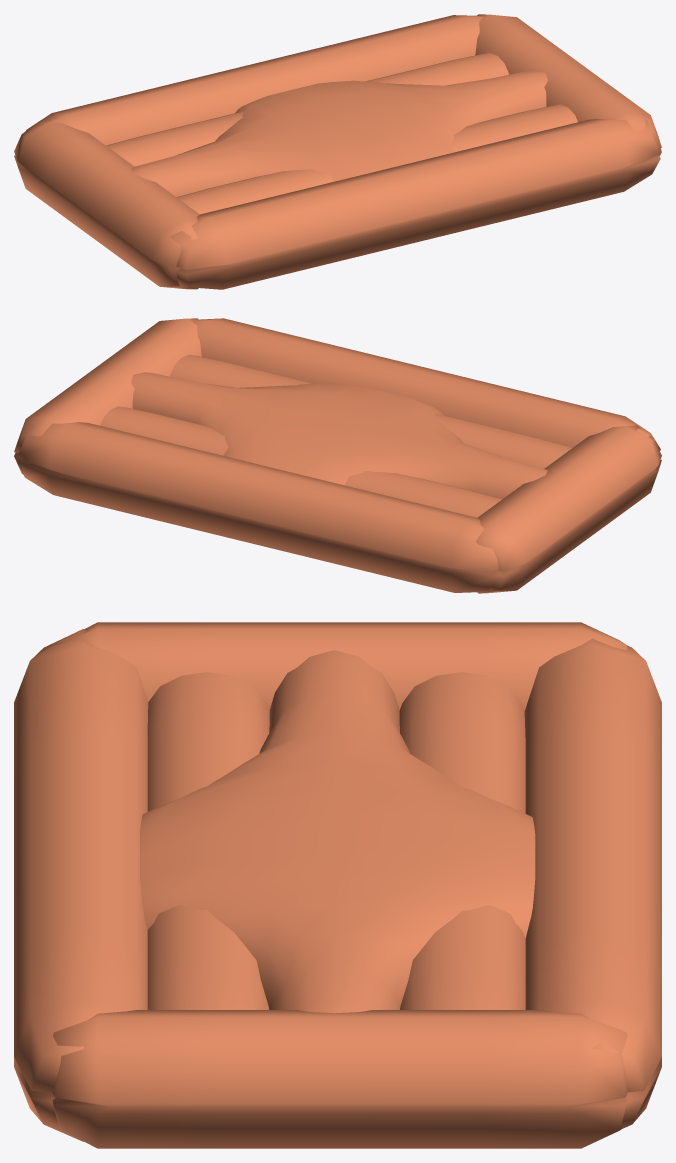
File: platformPared.fbx
The picture shows the model from 3 angles, top to bottom: view 1: azimuth 30°, elevation 25°; view 2: azimuth 150°, elevation 25°; view 3: azimuth 270°, elevation 25°; orthographic projection. The views are drawn at different scales.
Parts seen in each view (by area): view 1: pCube361, pCube365, pCube362, pCube381, pCube380, pCube366, pCube367; view 2: pCube362, pCube365, pCube361, pCube381, pCube380, pCube367, pCube366; view 3: pCube365, pCube380, pCube361, pCube362, pCube381, pCube367, pCube366.
Part boxes in pixels (x1,y1,x2,y2): pCube361: (170,118,660,289); pCube365: (131,70,547,197); pCube362: (16,15,483,145); pCube381: (14,121,199,289); pCube380: (475,14,661,156); pCube366: (177,104,577,214); pCube367: (106,53,508,166); pCube362: (16,422,505,592); pCube365: (131,372,547,498); pCube361: (192,318,660,450); pCube381: (476,425,661,593); pCube380: (14,318,201,474); pCube367: (100,406,502,517); pCube366: (170,354,572,468); pCube365: (140,650,535,1013); pCube380: (52,1010,627,1148); pCube361: (14,629,148,1141); pCube362: (524,638,661,1128); pCube381: (53,622,627,710); pCube367: (399,672,525,1009); pCube366: (147,672,269,1009).
Bounding box in the file's own units: 5.15 × 0.6712 × 3.16.
